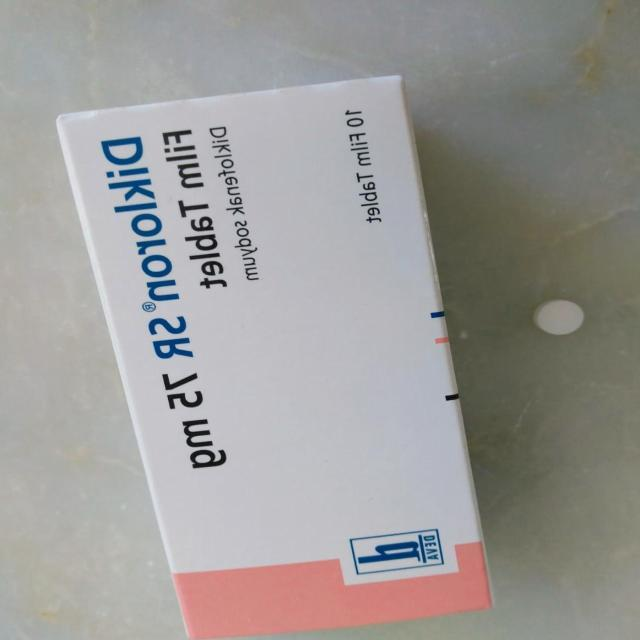pill: (522, 294, 590, 343)
